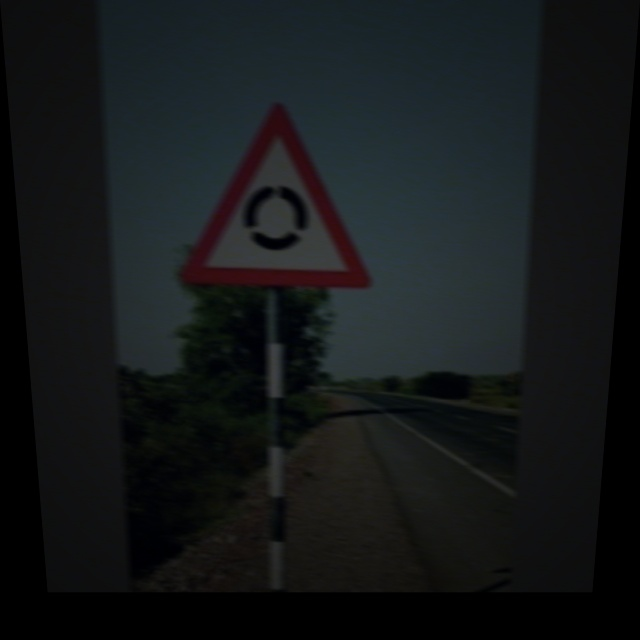Round_About: (167, 99, 385, 292)
